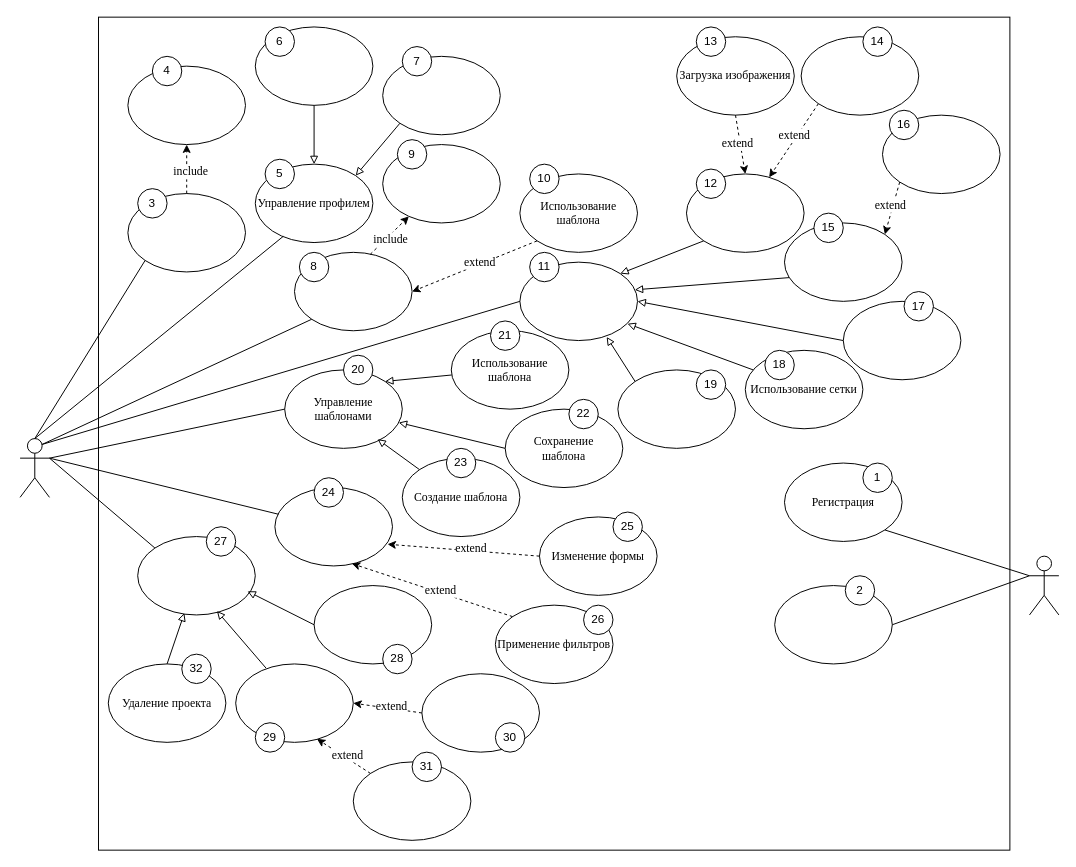
This 1076x867 diagram has some shape labels left out. Here are the shapes that lost their labels. From the top down, the box of each, then its label:
(254, 26, 373, 105): Просмотр профиля
(800, 36, 919, 115): Использование библиотеки изображений
(127, 65, 245, 145): Просмотр превью коллажа
(382, 55, 500, 135): Редактирование профиля
(882, 114, 1000, 194): Редактирование текста
(382, 144, 500, 223): Выбор размера холста
(127, 193, 245, 272): Экспорт коллажа
(686, 173, 804, 252): Добавление изображения
(784, 222, 902, 301): Добавление текста
(294, 251, 412, 331): Создание коллажа
(519, 261, 637, 341): Реадктирование коллажа
(842, 300, 961, 380): Добавление элементов
(617, 369, 735, 448): Undo/Redo
(19, 438, 49, 497): Клиент
(274, 487, 392, 566): Редактирование изображения
(137, 536, 255, 615): Управление проектами
(1029, 555, 1059, 615): Гость
(313, 585, 432, 664): Создание проекта
(774, 585, 892, 664): Авторизация
(235, 663, 353, 742): Просмотр галереи проектов
(421, 673, 539, 752): Фильтрация проектов
(352, 761, 471, 840): Сортировка проектов
